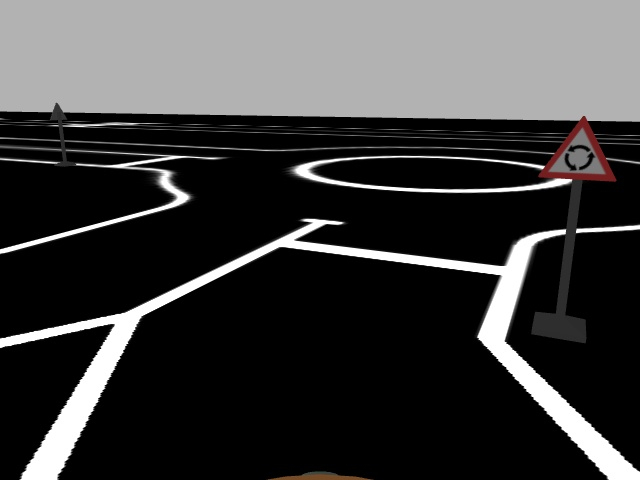roundabout: (539, 115, 618, 182)
